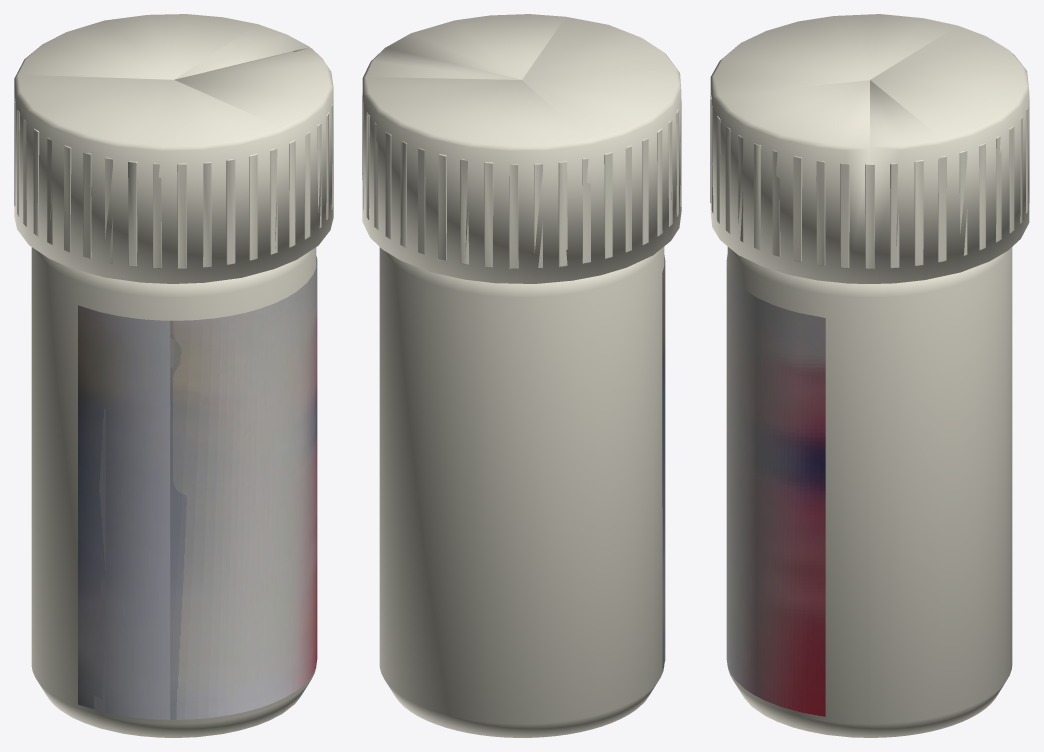
3 views of the same model, side by side, from view 1: azimuth 30°, elevation 25°; view 2: azimuth 150°, elevation 25°; view 3: azimuth 270°, elevation 25° (orthographic).
Visible parts, largest first — view 1: white_tube__body, white_tube__cap; view 2: white_tube__body, white_tube__cap; view 3: white_tube__body, white_tube__cap.
Part boxes in pixels (box(x1,y1,x2,y2)): white_tube__body: box(31, 247, 317, 737); white_tube__cap: box(14, 14, 333, 283); white_tube__body: box(379, 247, 665, 737); white_tube__cap: box(362, 14, 681, 283); white_tube__body: box(726, 246, 1012, 737); white_tube__cap: box(710, 14, 1029, 283).
Size of the model in its own units: 0.0434 by 0.0904 by 0.0434.
Materials: 3 (1 with a texture image).
